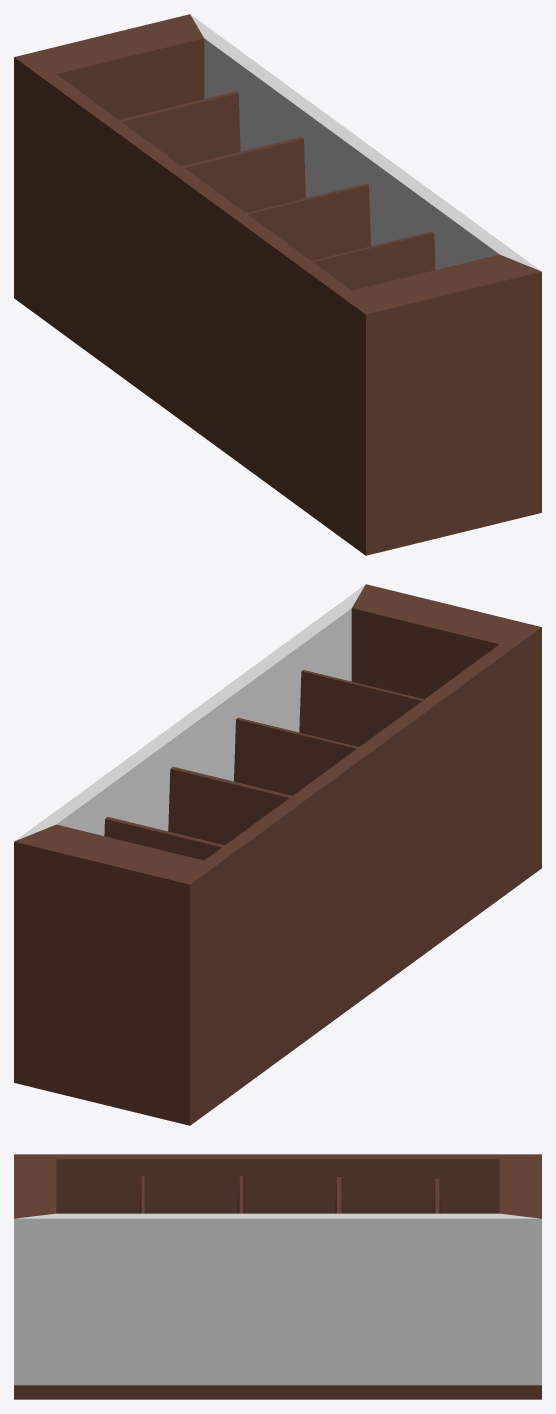
File: Plinko catcher.fbx
The picture shows the model from 3 angles, top to bottom: view 1: azimuth 30°, elevation 25°; view 2: azimuth 150°, elevation 25°; view 3: azimuth 270°, elevation 25°; orthographic projection. The views are drawn at different scales.
Visible parts, largest first — view 1: Plinko Basket, Window; view 2: Plinko Basket, Window; view 3: Window, Plinko Basket.
Part boxes in pixels (x1,y1,x2,y2): Plinko Basket: (14,14,541,555); Window: (190,14,541,271); Plinko Basket: (14,584,541,1125); Window: (14,584,365,841); Window: (14,1213,541,1385); Plinko Basket: (14,1154,541,1399).
Bounding box in the file's own units: 121 × 158 × 419.
